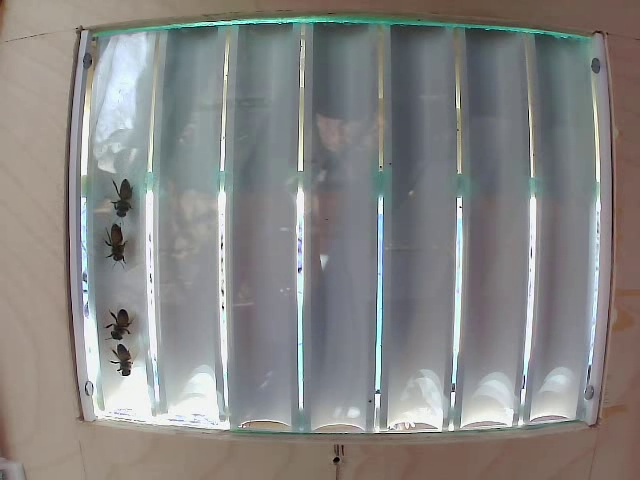bee: (95, 221, 130, 271), (113, 348, 142, 389), (105, 306, 134, 345), (108, 169, 135, 208)
